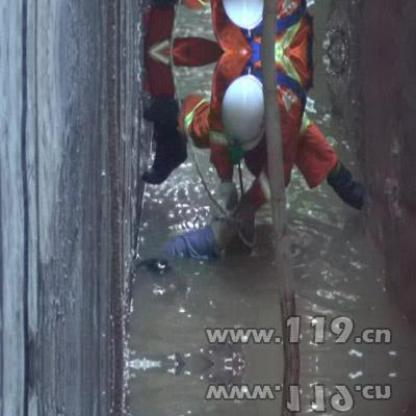helmet: (216, 68, 273, 152)
